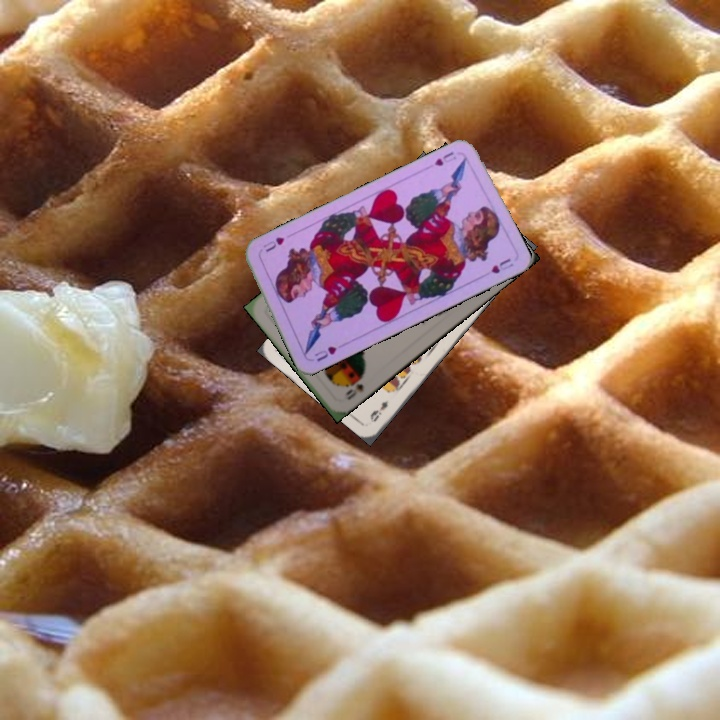E9: (366, 397, 391, 425)
HU: (310, 342, 339, 364), (430, 147, 459, 169)
SO: (342, 379, 366, 403)
